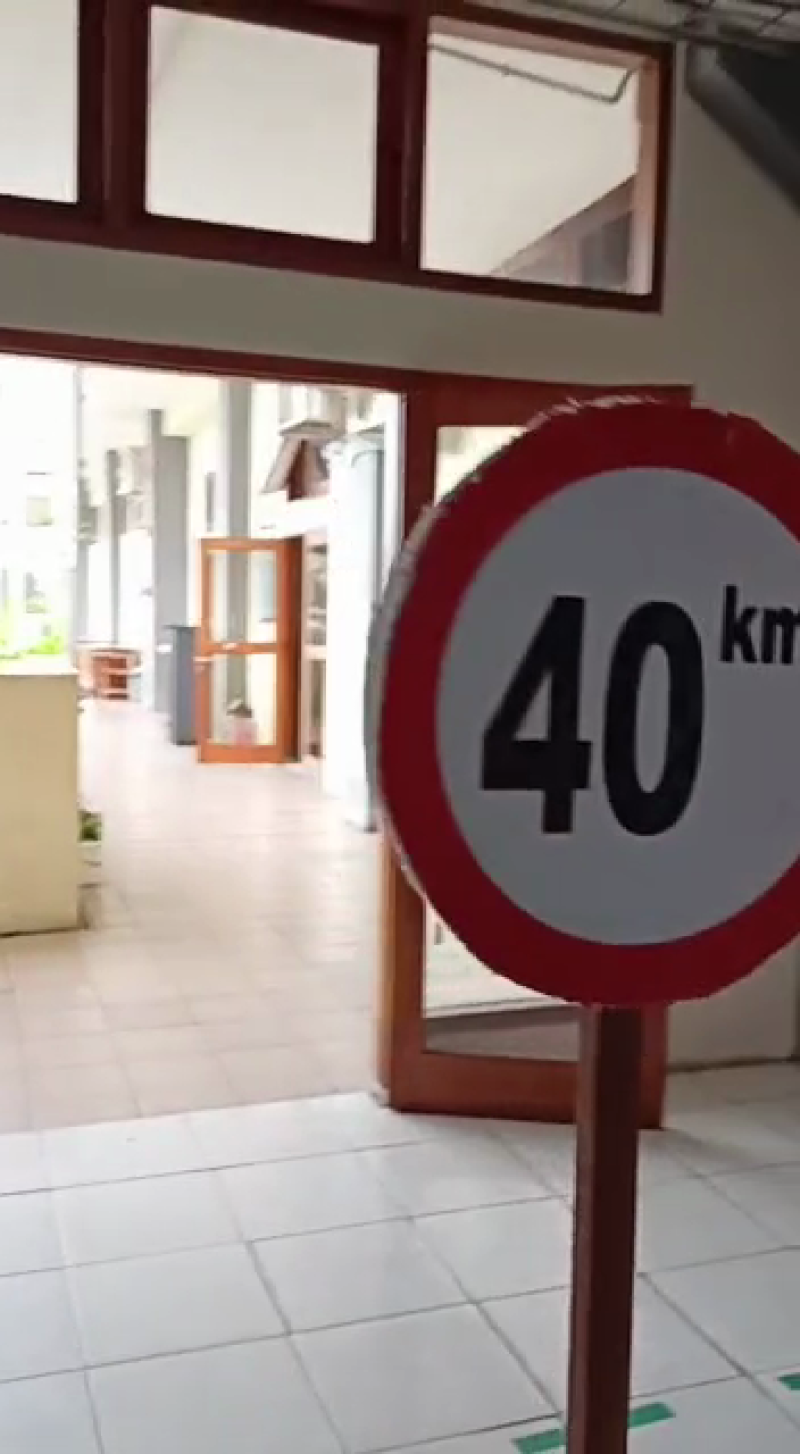batas maksimal 40kmperjam: (366, 368, 800, 1029)
